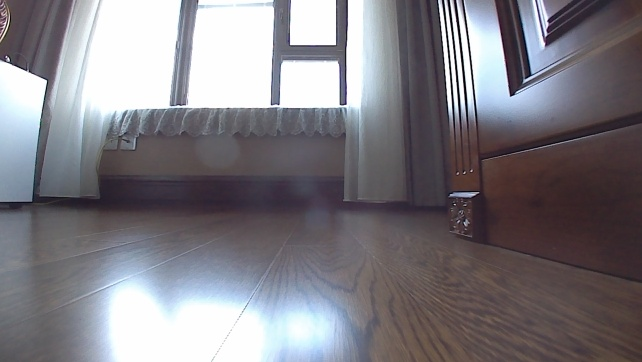wire: (92, 136, 130, 175)
